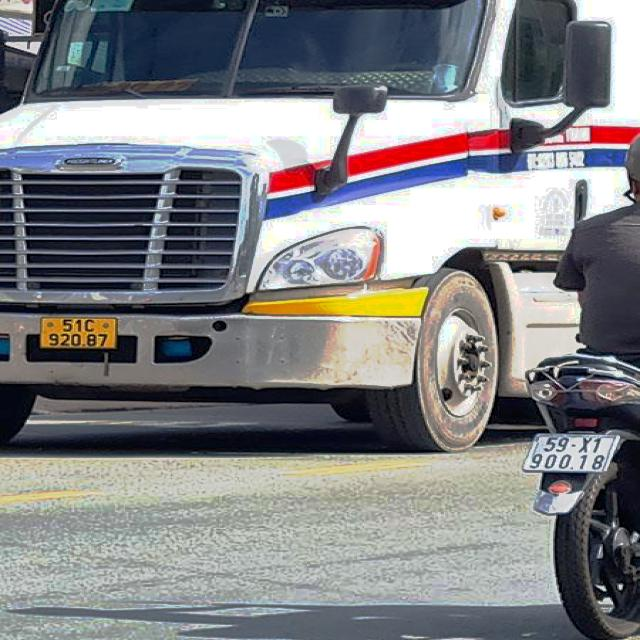license_plate: (526, 434, 622, 474), (39, 315, 120, 352)
